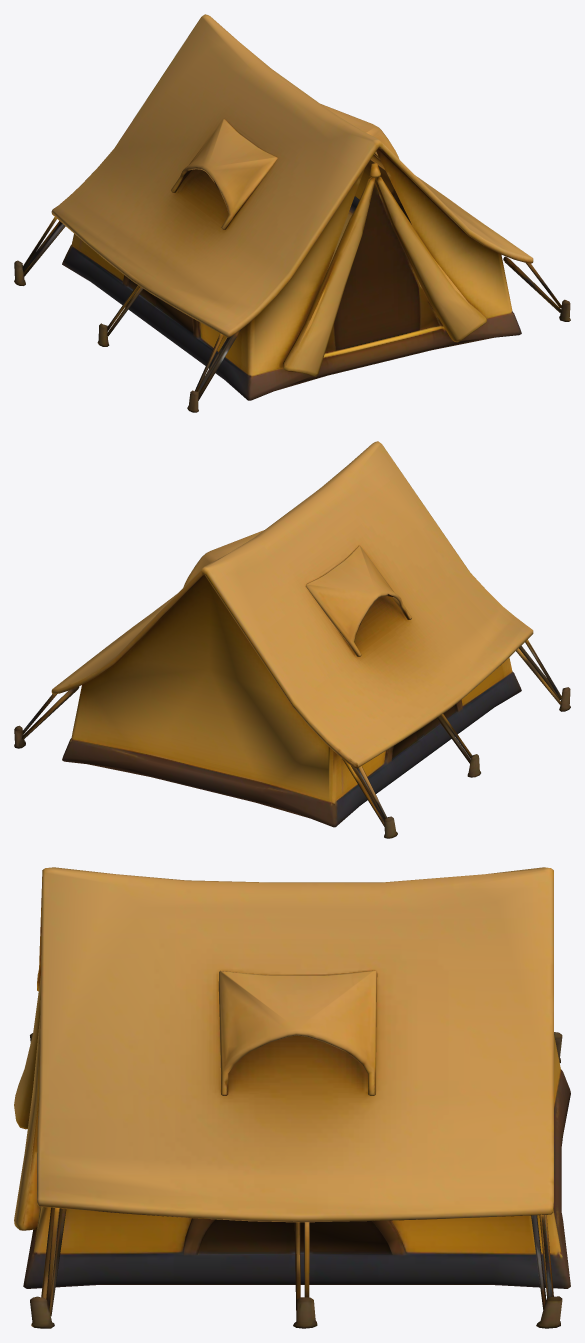
File: a_camping_tent_03742dd5_v3.glb
The picture shows the model from 3 angles, top to bottom: view 1: azimuth 30°, elevation 25°; view 2: azimuth 150°, elevation 25°; view 3: azimuth 270°, elevation 25°; orthographic projection. The views are drawn at different scales.
Parts seen in each view (by area): view 1: material; view 2: material; view 3: material.
Boxes of the visible parts, bbox=[...] form: material: bbox=[14, 14, 570, 412]; material: bbox=[14, 441, 570, 838]; material: bbox=[14, 867, 570, 1328].
Size of the model in its own units: 1.9 by 1.06 by 1.65.
1 material, 1 textured.
